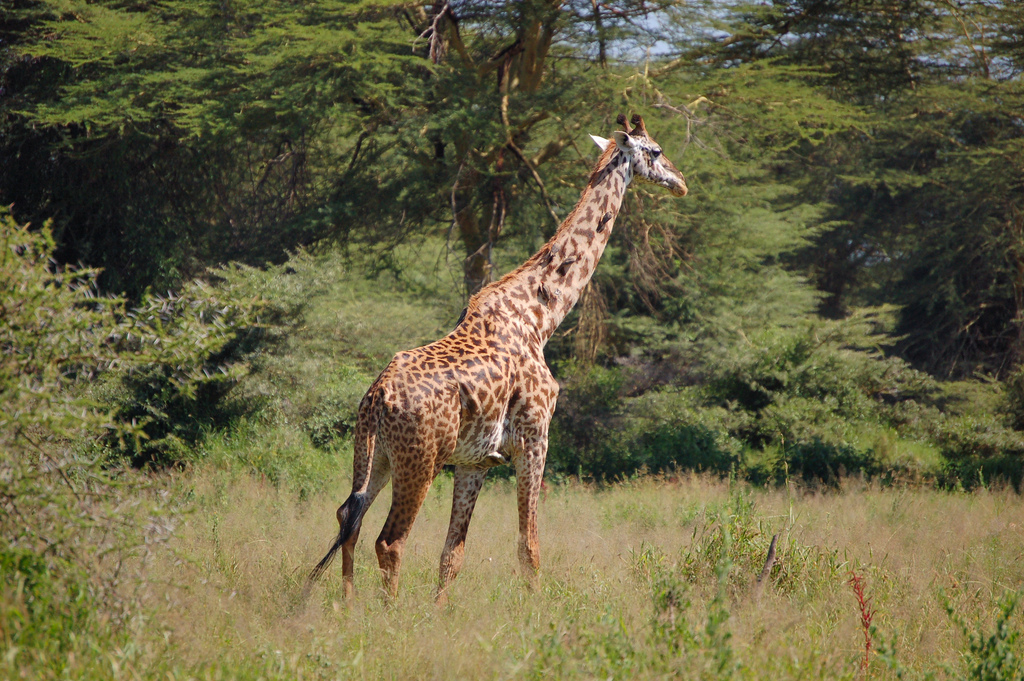giraffe: (319, 113, 699, 608)
